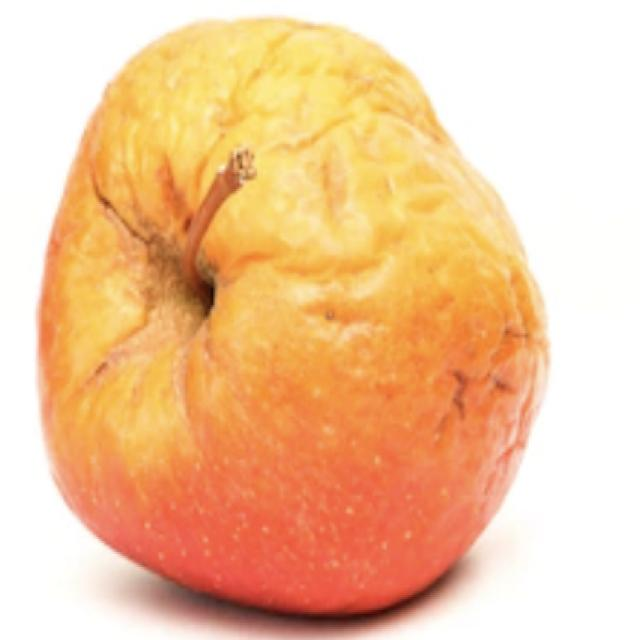rotten_apple: (38, 16, 552, 622)
